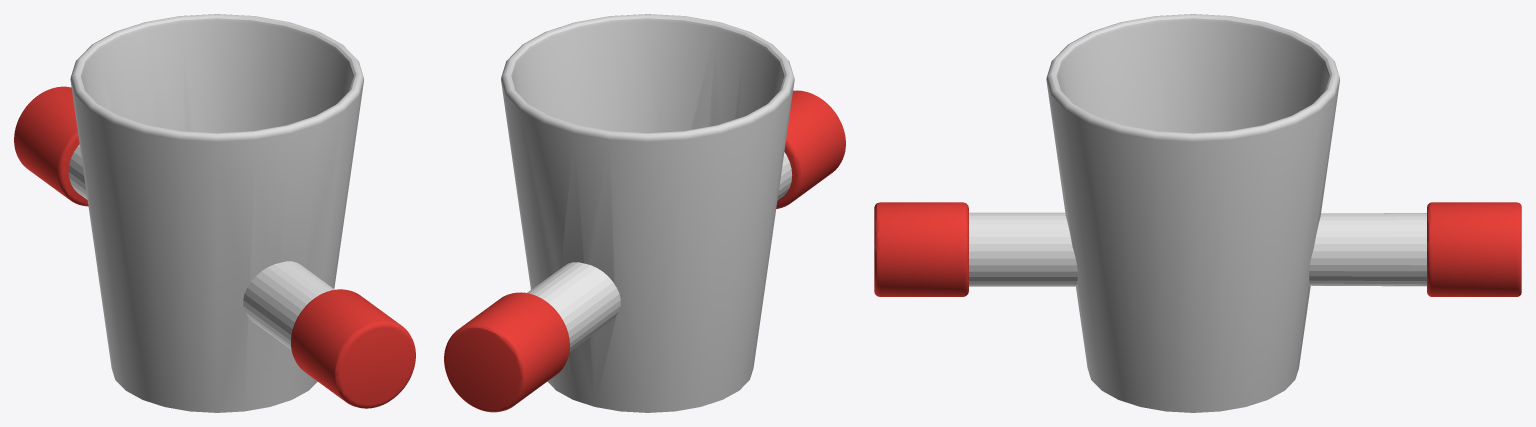
Rendered from juicemachine.fbx.
3 renders of one model, left to right at view 1: azimuth 30°, elevation 25°; view 2: azimuth 150°, elevation 25°; view 3: azimuth 270°, elevation 25°, orthographic.
Visible parts, largest first — view 1: glass, Cylinder.006, Cylinder.005, Cylinder.001, Cylinder.002; view 2: glass, Cylinder.005, Cylinder.006, Cylinder.002, Cylinder.001; view 3: glass, Cylinder.005, Cylinder.006, Cylinder.002, Cylinder.001.
Boxes of the visible parts, bbox=[...] form: glass: bbox=[70, 14, 363, 412]; Cylinder.006: bbox=[291, 289, 415, 408]; Cylinder.005: bbox=[14, 86, 88, 206]; Cylinder.001: bbox=[243, 261, 334, 349]; Cylinder.002: bbox=[68, 144, 87, 199]; glass: bbox=[501, 14, 794, 412]; Cylinder.005: bbox=[444, 292, 569, 412]; Cylinder.006: bbox=[776, 90, 845, 208]; Cylinder.002: bbox=[527, 262, 620, 351]; Cylinder.001: bbox=[777, 152, 792, 200]; glass: bbox=[1046, 14, 1339, 412]; Cylinder.005: bbox=[1427, 202, 1521, 296]; Cylinder.006: bbox=[874, 202, 968, 296]; Cylinder.002: bbox=[1309, 213, 1426, 286]; Cylinder.001: bbox=[969, 212, 1077, 286].
Bounding box in the file's own units: 154 × 170 × 339.
